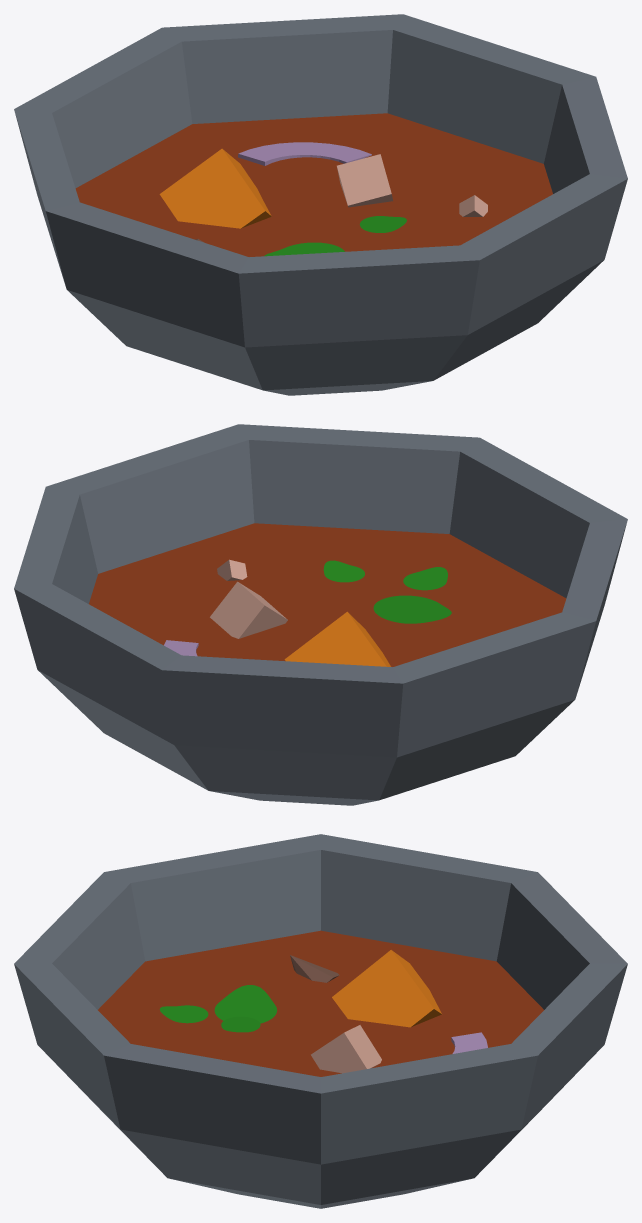
File: mixsoup.fbx
The picture shows the model from 3 angles, top to bottom: view 1: azimuth 30°, elevation 25°; view 2: azimuth 150°, elevation 25°; view 3: azimuth 270°, elevation 25°; orthographic projection. The views are drawn at different scales.
Parts seen in each view (by area): view 1: mixsoup; view 2: mixsoup; view 3: mixsoup.
Boxes of the visible parts, bbox=[...] form: mixsoup: bbox=[14, 14, 627, 395]; mixsoup: bbox=[14, 424, 627, 805]; mixsoup: bbox=[14, 834, 627, 1208].
Size of the model in its own units: 144 by 54.89 by 144.
